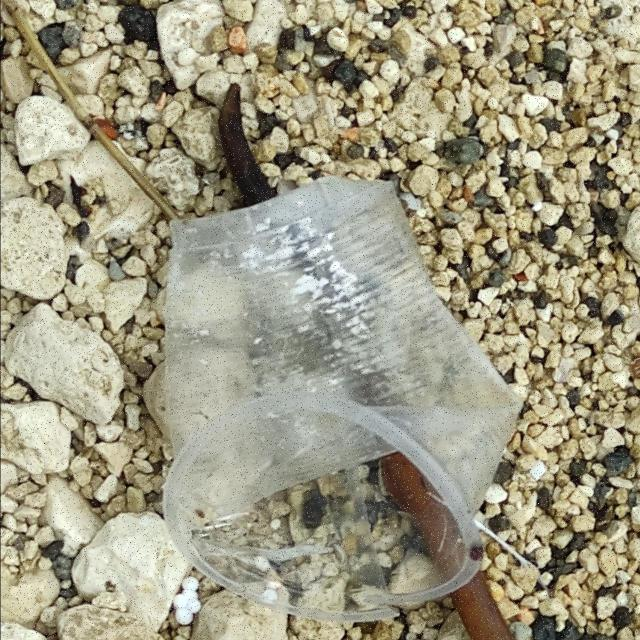plastic_waste: (165, 175, 524, 623)
